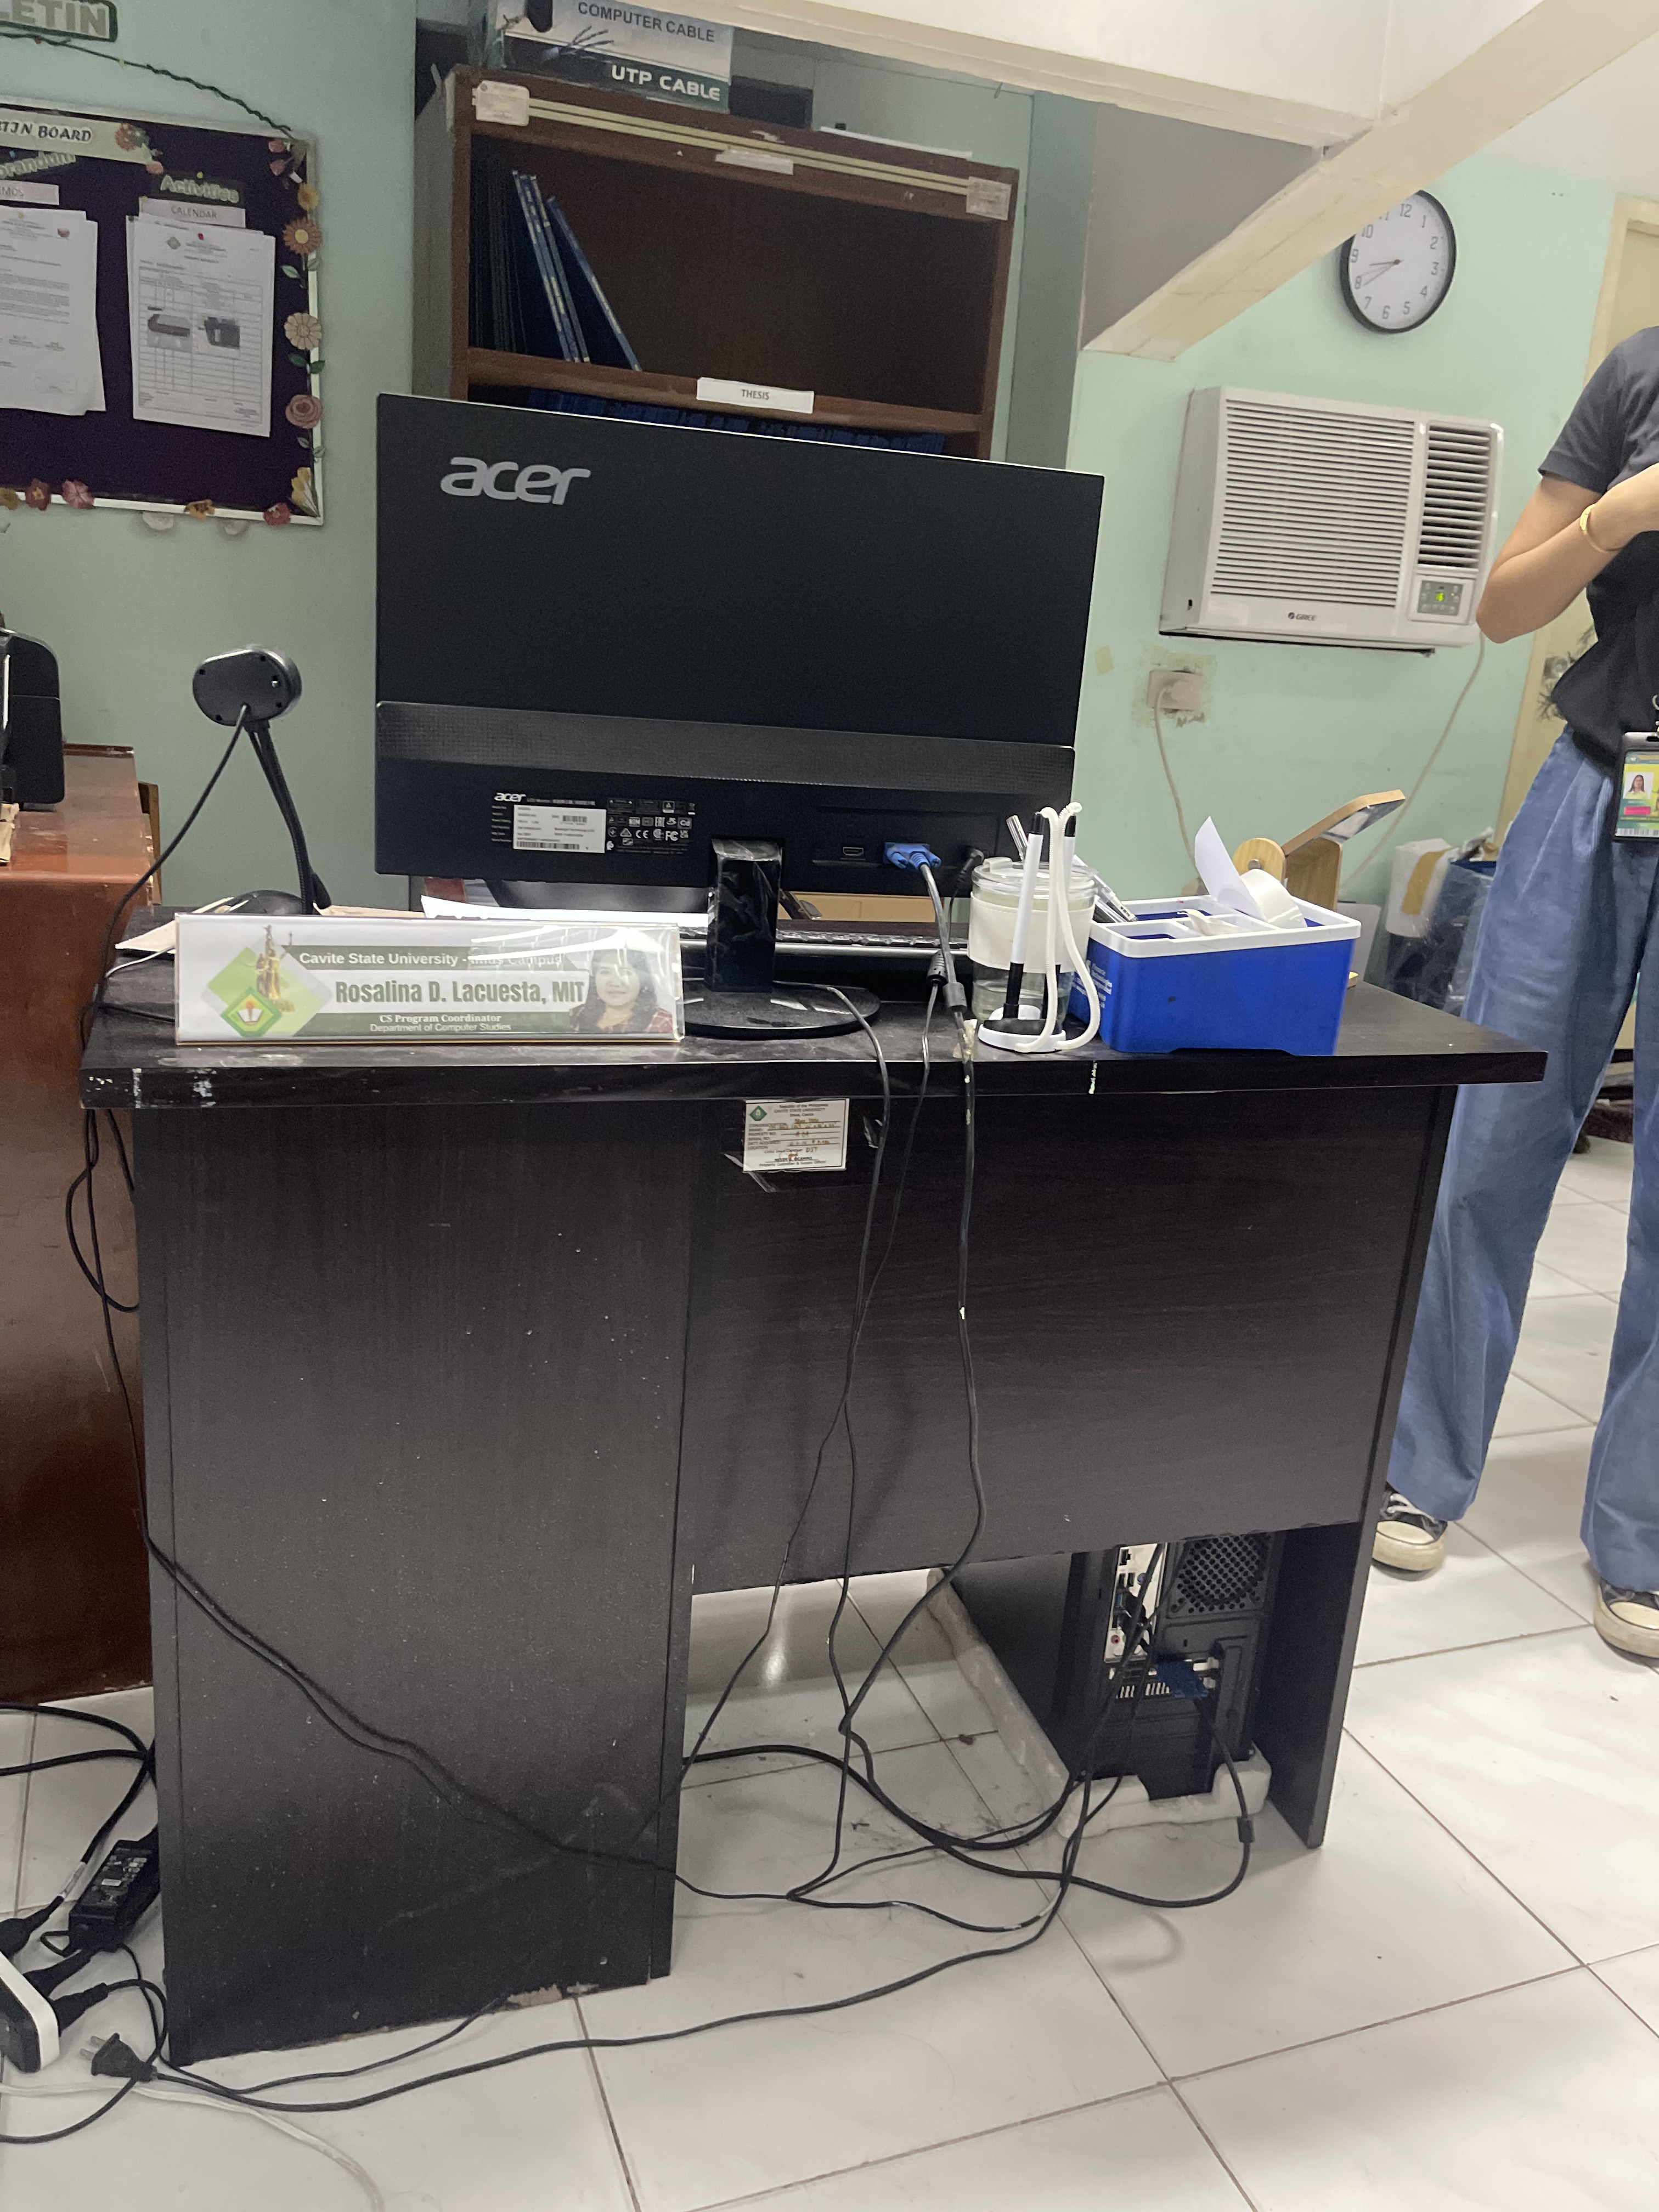table1: (80, 888, 1565, 2088)
